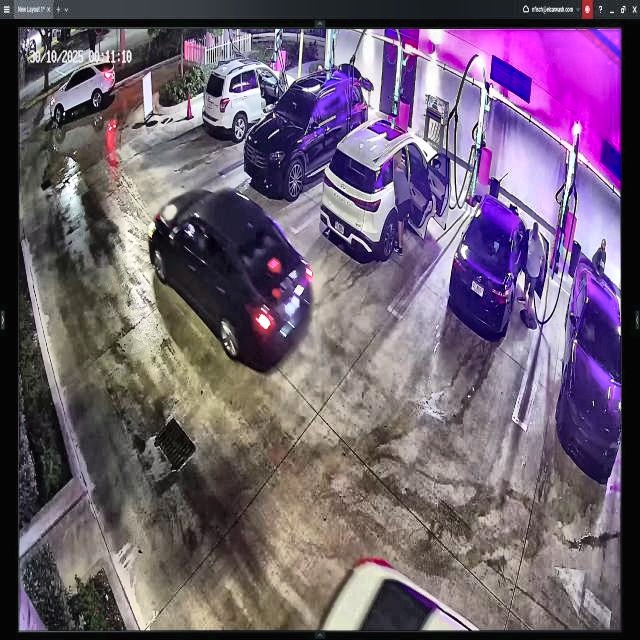Car: (150, 188, 314, 364), (320, 114, 451, 265), (246, 62, 372, 193), (446, 198, 544, 340)
